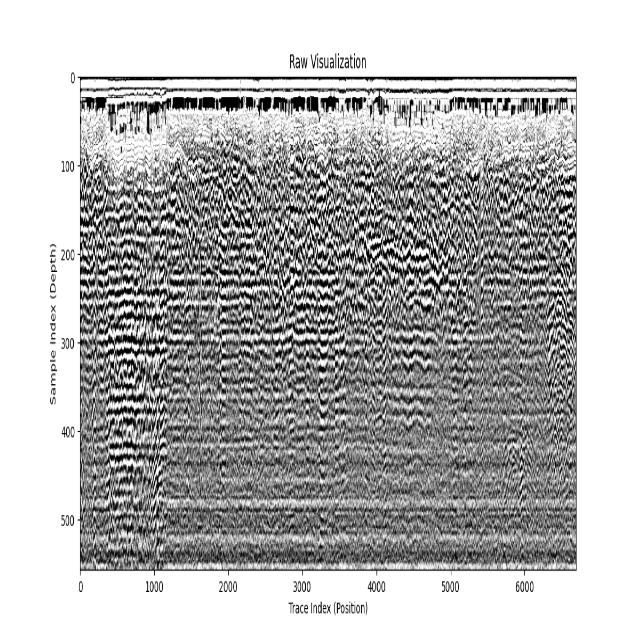anomaly: (211, 242, 451, 377), (94, 200, 169, 541), (497, 434, 528, 502)
